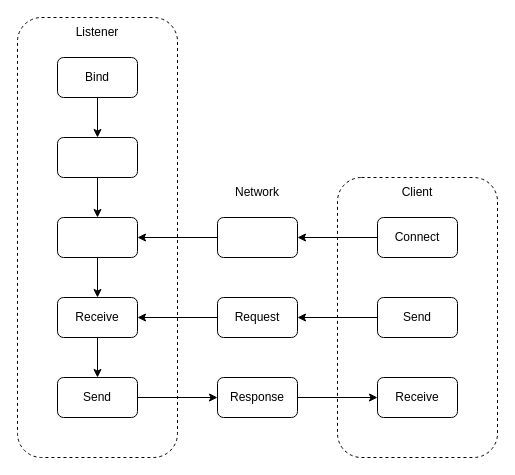
Some shapes in this 515 by 475 pixel diagram are drawn without their labels. Here are the shapes that lost their labels. From the top down, the centre of each, then its label:
At pixel 97 157: "Listen".
At pixel 97 237: "Accept".
At pixel 257 237: "Connection".
